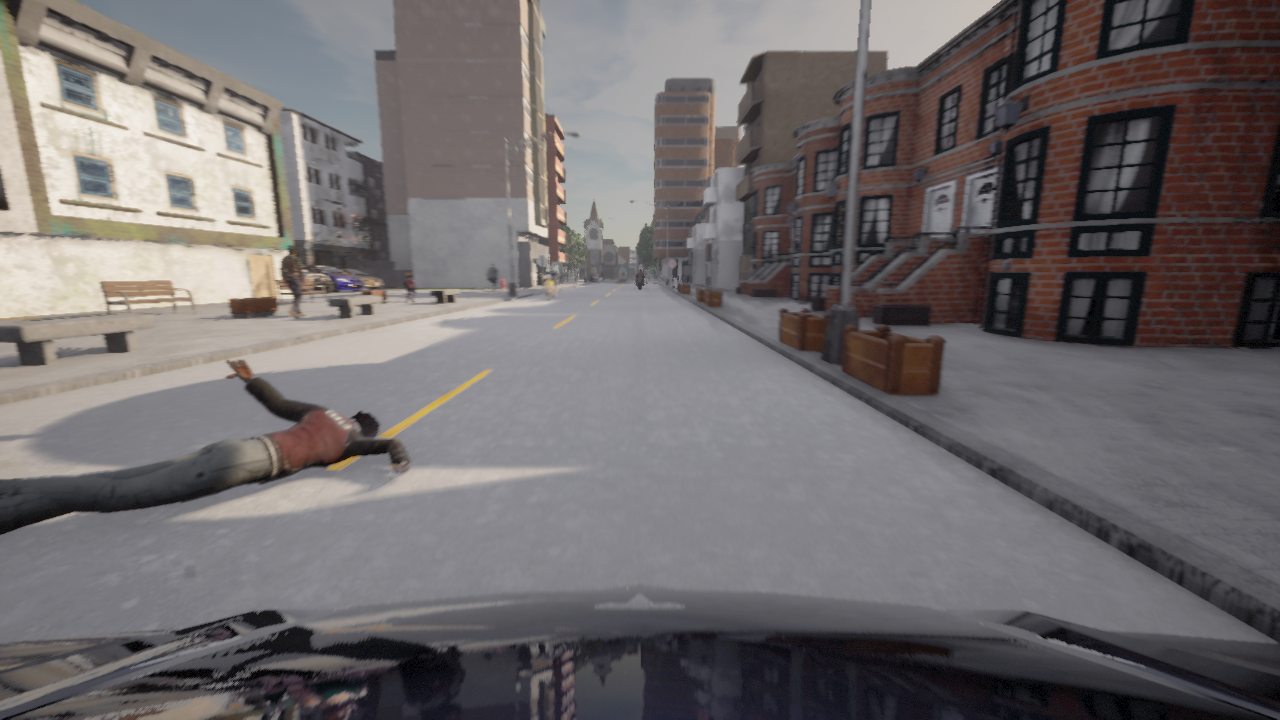cyclist: (0, 584, 1279, 719), (303, 265, 364, 292), (301, 263, 333, 294), (337, 268, 383, 289), (541, 273, 559, 301), (590, 274, 597, 282), (638, 277, 642, 288)
pedestrian: (0, 359, 412, 535), (281, 246, 304, 317), (488, 262, 499, 291), (405, 273, 415, 302)
